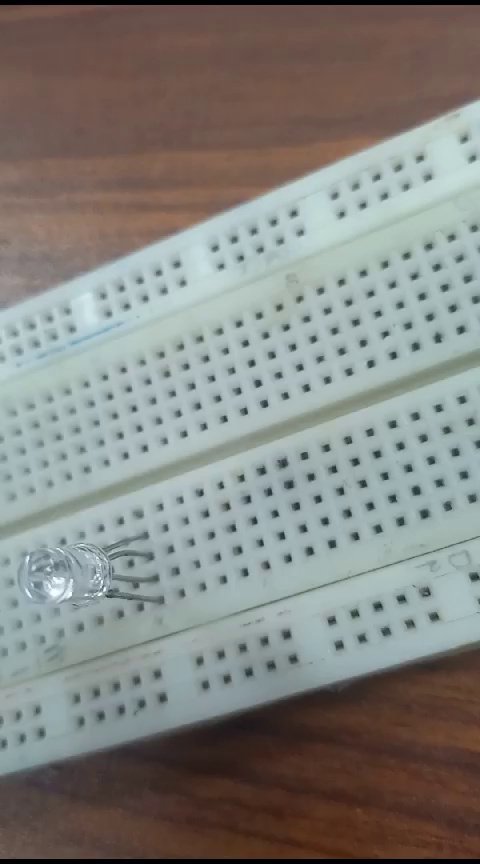LED: (3, 541, 159, 612)
